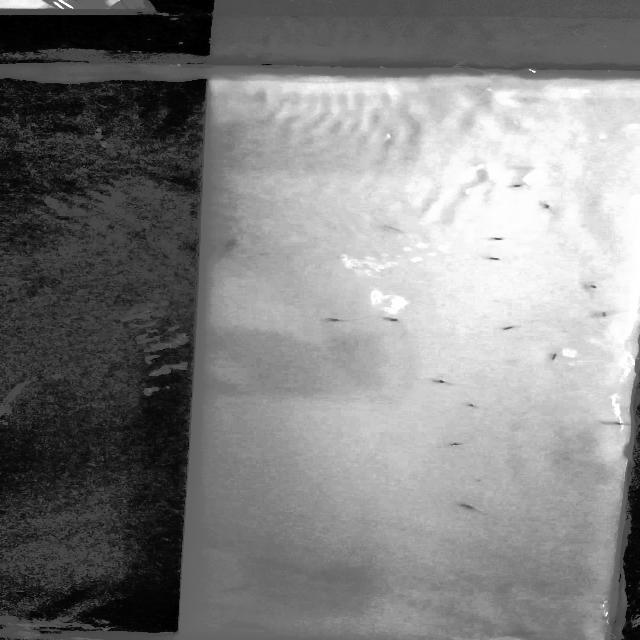shrimp: (457, 499, 489, 513), (498, 322, 530, 336), (537, 349, 563, 364), (578, 282, 607, 294), (430, 376, 454, 389), (600, 421, 630, 430), (485, 232, 509, 243), (324, 316, 349, 326), (592, 308, 612, 320), (220, 239, 243, 249), (445, 440, 473, 448), (378, 315, 408, 322), (464, 400, 482, 410), (486, 255, 504, 264), (508, 182, 531, 189), (534, 202, 550, 212)
